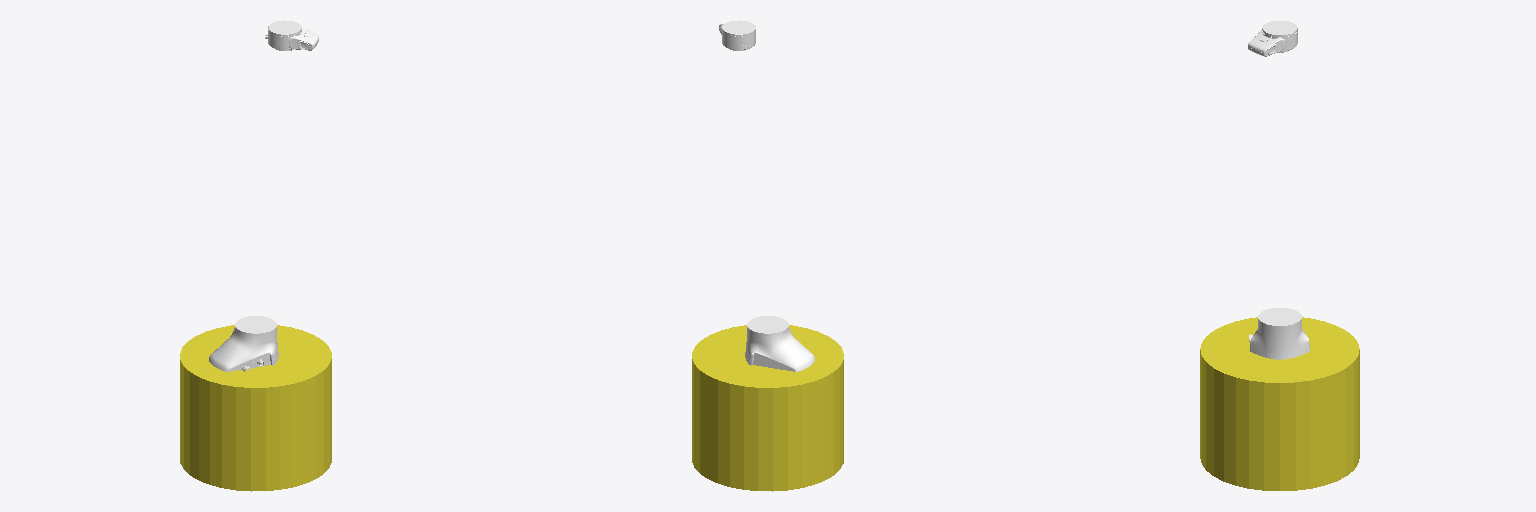
The robot description file, URDF, robot "mobilePanda":
<?xml version="1.0"?>
<!-- =================================================================================== -->
<!-- |    This document was autogenerated by xacro from panda_arm.urdf.xacro           | -->
<!-- |    EDITING THIS FILE BY HAND IS NOT RECOMMENDED                                 | -->
<!-- =================================================================================== -->
<robot name="mobilePanda">
  <link name="world"/>
  <link name="base_link_x">
    <inertial>
      <mass value="1.0"/>
      <origin rpy="0 0 0" xyz="0 0 0"/>
      <inertia ixx="1.0" ixy="0.0" ixz="0.0" iyy="1.0" iyz="0.0" izz="1.0"/>
    </inertial>
  </link>
  <link name="base_link_y">
    <inertial>
      <mass value="1.0"/>
      <origin rpy="0 0 0" xyz="0 0 0"/>
      <inertia ixx="1.0" ixy="0.0" ixz="0.0" iyy="1.0" iyz="0.0" izz="1.0"/>
    </inertial>
  </link>
  <link name="base_link">
    <inertial>
      <mass value="100.0"/>
      <origin rpy="0 0 0" xyz="0 0 0"/>
      <inertia ixx="1.0" ixy="0.0" ixz="0.0" iyy="1.0" iyz="0.0" izz="1.0"/>
    </inertial>
    <collision>
      <origin rpy="0.0 0 0" xyz="0 0 0"/>
      <geometry>
          <cylinder length="0.3" radius="0.2"/>
      </geometry>
    </collision>
    <visual>
      <origin rpy="0.0 0 0" xyz="0 0 0"/>
      <geometry>
          <cylinder length="0.3" radius="0.2"/>
      </geometry>
    </visual>
  </link>
  <joint name="mobile_joint_x" type="prismatic">
    <safety_controller k_position="100.0" k_velocity="40.0" soft_lower_limit="-2.8973" soft_upper_limit="2.8973"/>
    <parent link="world"/>
    <child link="base_link_x"/>
    <origin rpy="0 0 0" xyz="0 0 0.15"/>
    <axis xyz="1 0 0"/>
    <limit effort="87" lower="-5" upper="5" velocity="2.1750"/>
  </joint>
  <joint name="mobile_joint_y" type="prismatic">
    <safety_controller k_position="100.0" k_velocity="40.0" soft_lower_limit="-2.8973" soft_upper_limit="2.8973"/>
    <parent link="base_link_x"/>
    <child link="base_link_y"/>
    <origin rpy="0 0 0" xyz="0 0 0"/>
    <axis xyz="0 1 0"/>
    <limit effort="87" lower="-5" upper="5" velocity="2.1750"/>
  </joint>
  <joint name="mobile_joint_theta" type="revolute">
    <safety_controller k_position="100.0" k_velocity="40.0" soft_lower_limit="-2.8973" soft_upper_limit="2.8973"/>
    <parent link="base_link_y"/>
    <child link="base_link"/>
    <origin rpy="0 0 0" xyz="0 0 0"/>
    <axis xyz="0 0 1"/>
    <limit effort="87" lower="-5" upper="5" velocity="2.1750"/>
  </joint>
  <link name="panda_link0">
    <inertial>
      <mass value="2.92"/>
      <origin rpy="0 0 0" xyz="-0.025566 -2.88e-05 0.057332"/>
      <inertia ixx="0.00782229414331" ixy="-1.56191622996e-05" ixz="-0.00126005738123" iyy="0.0109027971813" iyz="1.08233858202e-05" izz="0.0102355503949"/>
    </inertial>
    <visual>
      <origin rpy="0 0 0" xyz="0 0 0"/>
      <geometry>
        <mesh filename="meshes/visual/link0.dae"/>
      </geometry>
      <material name="">
        <color rgba="1 1 1 1"/>
      </material>
    </visual>
    <collision>
      <origin rpy="0 0 0" xyz="0 0 0"/>
      <geometry>
        <mesh filename="meshes/collision/link0.stl"/>
      </geometry>
    </collision>
  </link>
  <joint name="panda_joint_base" type="fixed">
    <parent link="base_link"/>
    <child link="panda_link0"/>
    <origin rpy="0 0 0" xyz="0 0 0.1"/>
  </joint>
  <link name="panda_link1">
    <inertial>
      <mass value="2.74"/>
      <origin rpy="0 0 0" xyz="0 -0.0324958 -0.0675818"/>
      <inertia ixx="0.0180416958283" ixy="0.0" ixz="0.0" iyy="0.0159136071891" iyz="0.0046758424612" izz="0.00620690827127"/>
    </inertial>
    <visual>
      <origin rpy="0 0 0" xyz="0 0 0"/>
      <geometry>
        <mesh filename="meshes/visual/link1.obj"/>
      </geometry>
      <material name="">
        <color rgba="1 1 1 1"/>
      </material>
    </visual>
    <collision>
      <origin rpy="0 0 0" xyz="0 0 0"/>
      <geometry>
        <mesh filename="meshes/collision/link1.stl"/>
      </geometry>
    </collision>
  </link>
  <joint name="panda_joint1" type="revolute">
    <safety_controller k_position="100.0" k_velocity="40.0" soft_lower_limit="-2.8973" soft_upper_limit="2.8973"/>
    <origin rpy="0 0 0" xyz="0 0 0.333"/>
    <parent link="panda_link0"/>
    <child link="panda_link1"/>
    <axis xyz="0 0 1"/>
    <limit effort="87" lower="-2.8973" upper="2.8973" velocity="2.1750"/>
  </joint>
  <link name="panda_link2">
    <inertial>
      <mass value="2.74"/>
      <origin rpy="0 0 0" xyz="0 -0.06861 0.0322285"/>
      <inertia ixx="0.0182856182281" ixy="0.0" ixz="0.0" iyy="0.00621358421175" iyz="-0.00472844221905" izz="0.0161514346309"/>
    </inertial>
    <visual>
      <origin rpy="0 0 0" xyz="0 0 0"/>
      <geometry>
        <mesh filename="meshes/visual/link2.obj"/>
      </geometry>
      <material name="">
        <color rgba="1 1 1 1"/>
      </material>
    </visual>
    <collision>
      <origin rpy="0 0 0" xyz="0 0 0"/>
      <geometry>
        <mesh filename="meshes/collision/link2.stl"/>
      </geometry>
    </collision>
  </link>
  <joint name="panda_joint2" type="revolute">
    <safety_controller k_position="100.0" k_velocity="40.0" soft_lower_limit="-1.7628" soft_upper_limit="1.7628"/>
    <origin rpy="-1.57079632679 0 0" xyz="0 0 0"/>
    <parent link="panda_link1"/>
    <child link="panda_link2"/>
    <axis xyz="0 0 1"/>
    <limit effort="87" lower="-1.7628" upper="1.7628" velocity="2.1750"/>
  </joint>
  <link name="panda_link3">
    <inertial>
      <mass value="2.38"/>
      <origin rpy="0 0 0" xyz="0.0469893 0.0316374 -0.031704"/>
      <inertia ixx="0.00771376630908" ixy="-0.00248490625138" ixz="-0.00332147581033" iyy="0.00989108008727" iyz="-0.00217796151484" izz="0.00811723558464"/>
    </inertial>
    <visual>
      <origin rpy="0 0 0" xyz="0 0 0"/>
      <geometry>
        <mesh filename="meshes/visual/link3.obj"/>
      </geometry>
      <material name="">
        <color rgba="1 1 1 1"/>
      </material>
    </visual>
    <collision>
      <origin rpy="0 0 0" xyz="0 0 0"/>
      <geometry>
        <mesh filename="meshes/collision/link3.stl"/>
      </geometry>
    </collision>
  </link>
  <joint name="panda_joint3" type="revolute">
    <safety_controller k_position="100.0" k_velocity="40.0" soft_lower_limit="-2.8973" soft_upper_limit="2.8973"/>
    <origin rpy="1.57079632679 0 0" xyz="0 -0.316 0"/>
    <parent link="panda_link2"/>
    <child link="panda_link3"/>
    <axis xyz="0 0 1"/>
    <limit effort="87" lower="-2.8973" upper="2.8973" velocity="2.1750"/>
  </joint>
  <link name="panda_link4">
    <inertial>
      <mass value="2.38"/>
      <origin rpy="0 0 0" xyz="-0.0360446 0.0336853 0.031882"/>
      <inertia ixx="0.00799663881132" ixy="0.00347095570217" ixz="-0.00241222942995" iyy="0.00825390705278" iyz="0.00235774044121" izz="0.0102515004345"/>
    </inertial>
    <visual>
      <origin rpy="0 0 0" xyz="0 0 0"/>
      <geometry>
        <mesh filename="meshes/visual/link4.obj"/>
      </geometry>
      <material name="">
        <color rgba="1 1 1 1"/>
      </material>
    </visual>
    <collision>
      <origin rpy="0 0 0" xyz="0 0 0"/>
      <geometry>
        <mesh filename="meshes/collision/link4.stl"/>
      </geometry>
    </collision>
  </link>
  <joint name="panda_joint4" type="revolute">
    <safety_controller k_position="100.0" k_velocity="40.0" soft_lower_limit="-3.0718" soft_upper_limit="0.0698"/>
    <!-- soft_upper_limitr should be -0.0698, but that brakes simulation when initial position for this joint is 0.0 -->
    <origin rpy="1.57079632679 0 0" xyz="0.0825 0 0"/>
    <parent link="panda_link3"/>
    <child link="panda_link4"/>
    <axis xyz="0 0 1"/>
    <limit effort="87" lower="-3.0718" upper="0.0698" velocity="2.1750"/>
    <!-- upper should be -0.0698, but that brakes simulation when initial position for this joint is 0.0 -->
  </joint>
  <link name="panda_link5">
    <inertial>
      <mass value="2.74"/>
      <origin rpy="0 0 0" xyz="0 0.0610427 -0.104176"/>
      <inertia ixx="0.030371374513" ixy="6.50283587108e-07" ixz="-1.05129179916e-05" iyy="0.0288752887402" iyz="-0.00775653445787" izz="0.00444134056164"/>
    </inertial>
    <visual>
      <origin rpy="0 0 0" xyz="0 0 0"/>
      <geometry>
        <mesh filename="meshes/visual/link5.obj"/>
      </geometry>
      <material name="">
        <color rgba="1 1 1 1"/>
      </material>
    </visual>
    <collision>
      <origin rpy="0 0 0" xyz="0 0 0"/>
      <geometry>
        <mesh filename="meshes/collision/link5.stl"/>
      </geometry>
    </collision>
  </link>
  <joint name="panda_joint5" type="revolute">
    <safety_controller k_position="100.0" k_velocity="40.0" soft_lower_limit="-2.8973" soft_upper_limit="2.8973"/>
    <origin rpy="-1.57079632679 0 0" xyz="-0.0825 0.384 0"/>
    <parent link="panda_link4"/>
    <child link="panda_link5"/>
    <axis xyz="0 0 1"/>
    <limit effort="12" lower="-2.8973" upper="2.8973" velocity="2.6100"/>
  </joint>
  <link name="panda_link6">
    <inertial>
      <mass value="1.55"/>
      <origin rpy="0 0 0" xyz="0.0510509 0.009108 0.0106343"/>
      <inertia ixx="0.00303336450376" ixy="-0.000437276865508" ixz="0.000629257294877" iyy="0.00404479911567" iyz="0.000130472021025" izz="0.00558234286039"/>
    </inertial>
    <visual>
      <origin rpy="0 0 0" xyz="0 0 0"/>
      <geometry>
        <mesh filename="meshes/visual/link6.obj"/>
      </geometry>
      <material name="">
        <color rgba="1 1 1 1"/>
      </material>
    </visual>
    <collision>
      <origin rpy="0 0 0" xyz="0 0 0"/>
      <geometry>
        <mesh filename="meshes/collision/link6.stl"/>
      </geometry>
    </collision>
  </link>
  <joint name="panda_joint6" type="revolute">
    <safety_controller k_position="100.0" k_velocity="40.0" soft_lower_limit="-0.0175" soft_upper_limit="3.7525"/>
    <origin rpy="1.57079632679 0 0" xyz="0 0 0"/>
    <parent link="panda_link5"/>
    <child link="panda_link6"/>
    <axis xyz="0 0 1"/>
    <limit effort="12" lower="-0.0175" upper="3.7525" velocity="2.6100"/>
  </joint>
  <link name="panda_link7">
    <inertial>
      <mass value="0.54"/>
      <origin rpy="0 0 0" xyz="0.0109695 0.0107965 0.0650411"/>
      <inertia ixx="0.000888868887021" ixy="-0.00012239074652" ixz="3.98699829666e-05" iyy="0.000888001373233" iyz="-9.33825115206e-05" izz="0.0007176834609"/>
    </inertial>
    <visual>
      <origin rpy="0 0 0" xyz="0 0 0"/>
      <geometry>
        <mesh filename="meshes/visual/link7.dae"/>
      </geometry>
      <material name="">
        <color rgba="1 1 1 1"/>
      </material>
    </visual>
    <collision>
      <origin rpy="0 0 0" xyz="0 0 0"/>
      <geometry>
        <mesh filename="meshes/collision/link7.stl"/>
      </geometry>
    </collision>
  </link>
  <joint name="panda_joint7" type="revolute">
    <safety_controller k_position="100.0" k_velocity="40.0" soft_lower_limit="-2.8973" soft_upper_limit="2.8973"/>
    <origin rpy="1.57079632679 0 0" xyz="0.088 0 0"/>
    <parent link="panda_link6"/>
    <child link="panda_link7"/>
    <axis xyz="0 0 1"/>
    <limit effort="12" lower="-2.8973" upper="2.8973" velocity="2.6100"/>
  </joint>
  <!-- critical as zero mass link -->
  <link name="panda_link8"/>
    <inertial>
      <mass value="0.01"/>
      <origin rpy="0 0 0" xyz="0.0 0.0 0.0"/>
      <inertia ixx="0.000888868887021" ixy="-0.00012239074652" ixz="3.98699829666e-05" iyy="0.000888001373233" iyz="-9.33825115206e-05" izz="0.0007176834609"/>
    </inertial>
  <joint name="panda_joint8" type="fixed">
    <origin rpy="0 0 0" xyz="0 0 0.107"/>
    <parent link="panda_link7"/>
    <child link="panda_link8"/>
    <axis xyz="0 0 0"/>
  </joint>
  <joint name="panda_hand_joint" type="fixed">
    <parent link="panda_link8"/>
    <child link="panda_hand"/>
    <origin rpy="0 0 -0.785398163397" xyz="0 0 0"/>
  </joint>
  <link name="panda_hand">
    <visual>
      <geometry>
        <mesh filename="meshes/visual/hand.obj"/>
      </geometry>
    </visual>
    <collision>
      <geometry>
        <mesh filename="meshes/collision/hand.stl"/>
      </geometry>
    </collision>
    <!-- for simulation -->
    <inertial>
      <origin rpy="0 0 0" xyz="0 0 0"/>
      <mass value="0.68"/>
      <inertia ixx="0.1" ixy="0.0" ixz="0.0" iyy="0.1" iyz="0.0" izz="0.1"/>
    </inertial>
    <!-- end for simulation -->
  </link>
  <link name="panda_leftfinger">
    <visual>
      <geometry>
        <mesh filename="meshes/visual/finger.obj"/>
      </geometry>
    </visual>
    <collision>
      <geometry>
        <mesh filename="meshes/collision/finger.stl"/>
      </geometry>
    </collision>
    <!-- for simulation -->
    <inertial>
      <origin rpy="0 0 0" xyz="0 0 0"/>
      <mass value="0.01"/>
      <inertia ixx="0.1" ixy="0.0" ixz="0.0" iyy="0.1" iyz="0.0" izz="0.1"/>
    </inertial>
    <!-- end for simulation -->
  </link>
  <link name="panda_rightfinger">
    <visual>
      <origin rpy="0 0 3.14159265359" xyz="0 0 0"/>
      <geometry>
        <mesh filename="meshes/visual/finger.obj"/>
      </geometry>
    </visual>
    <collision>
      <origin rpy="0 0 3.14159265359" xyz="0 0 0"/>
      <geometry>
        <mesh filename="meshes/collision/finger.stl"/>
      </geometry>
    </collision>
    <!-- for simulation -->
    <inertial>
      <origin rpy="0 0 0" xyz="0 0 0"/>
      <mass value="0.01"/>
      <inertia ixx="0.1" ixy="0.0" ixz="0.0" iyy="0.1" iyz="0.0" izz="0.1"/>
    </inertial>
    <!-- end for simulation -->
  </link>
  <joint name="panda_finger_joint1" type="prismatic">
    <parent link="panda_hand"/>
    <child link="panda_leftfinger"/>
    <origin rpy="0 0 0" xyz="0 0 0.0584"/>
    <axis xyz="0 1 0"/>
    <limit effort="20" lower="0.0" upper="0.04" velocity="0.2"/>
  </joint>
  <joint name="panda_finger_joint2" type="prismatic">
    <parent link="panda_hand"/>
    <child link="panda_rightfinger"/>
    <origin rpy="0 0 0" xyz="0 0 0.0584"/>
    <axis xyz="0 -1 0"/>
    <limit effort="20" lower="0.0" upper="0.04" velocity="0.2"/>
  </joint>
</robot>

--- Facts derived from the render (not from the file) ---
The picture shows the robot from 3 angles, left to right: view 1: azimuth 30°, elevation 25°; view 2: azimuth 150°, elevation 25°; view 3: azimuth 270°, elevation 25°; orthographic projection.
Robot: mobilePanda — 16 links, 15 joints (8 revolute, 4 prismatic, 3 fixed); root link world; default pose: all joints at 0.
Visible links, largest first — view 1: base_link, panda_link0, panda_link7; view 2: base_link, panda_link0, panda_link7; view 3: base_link, panda_link0, panda_link7.
Boxes of the visible links, x1=… form: base_link: x1=180, y1=325, x2=331, y2=491; panda_link0: x1=209, y1=316, x2=278, y2=371; panda_link7: x1=265, y1=20, x2=318, y2=50; base_link: x1=692, y1=325, x2=843, y2=491; panda_link0: x1=745, y1=316, x2=814, y2=371; panda_link7: x1=719, y1=20, x2=755, y2=50; base_link: x1=1200, y1=317, x2=1359, y2=490; panda_link0: x1=1249, y1=308, x2=1309, y2=359; panda_link7: x1=1248, y1=20, x2=1297, y2=56.
Size in the robot's own frame: 0.4 by 0.4 by 1.23 metres.
2 mesh visuals loaded from 10 distinct referenced files (2 Collada DAE); not drawn: 9 (reference not matched to a file when rendering).